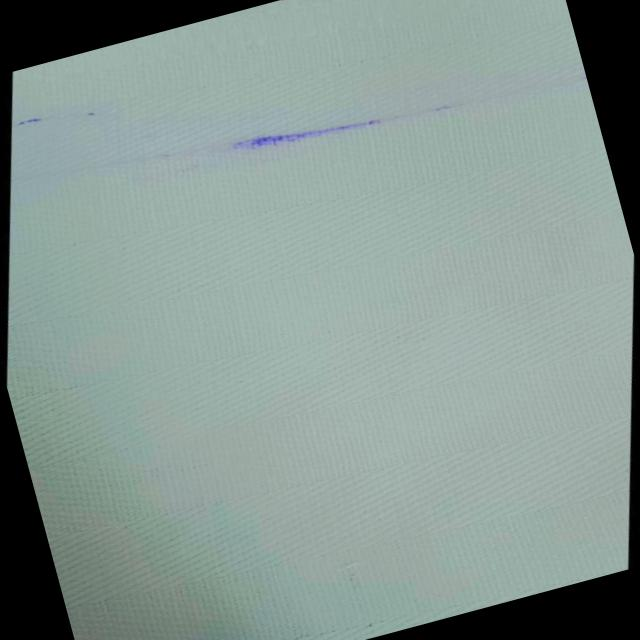stain: (119, 17, 595, 230), (3, 80, 121, 152)
